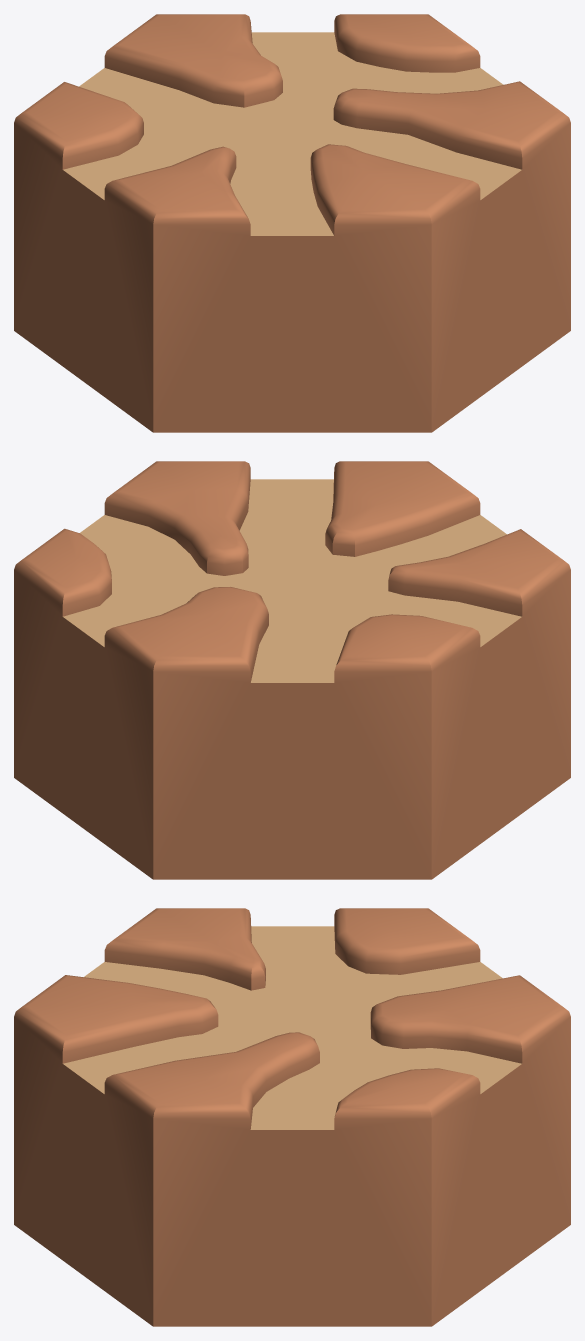
The model's file is hex_rock_roadM.glb.
The picture shows the model from 3 angles, top to bottom: view 1: azimuth 30°, elevation 25°; view 2: azimuth 150°, elevation 25°; view 3: azimuth 270°, elevation 25°; orthographic projection.
Parts seen in each view (by area): view 1: hex_rock_roadM; view 2: hex_rock_roadM; view 3: hex_rock_roadM.
Part boxes in pixels (bbox=[...]): hex_rock_roadM: bbox=[14, 14, 570, 432]; hex_rock_roadM: bbox=[14, 461, 570, 879]; hex_rock_roadM: bbox=[14, 908, 570, 1326].
Bounding box in the file's own units: 2.4 × 1.2 × 2.77.
